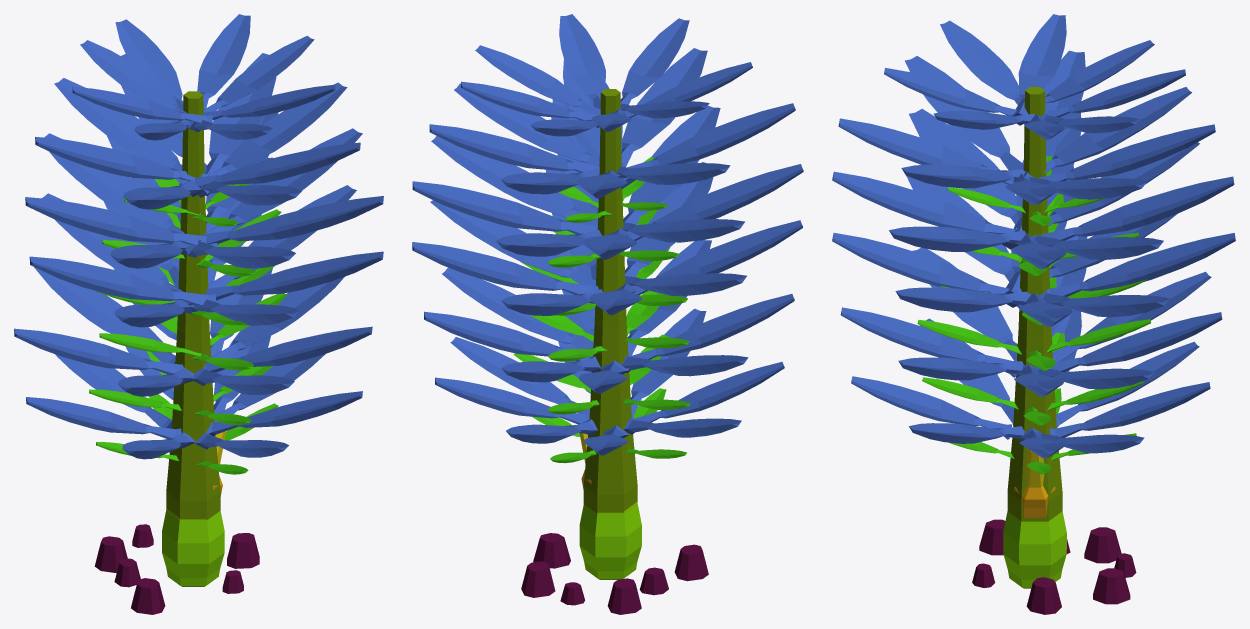
The model's file is indigo.glb.
3 renders of one model, left to right at view 1: azimuth 30°, elevation 25°; view 2: azimuth 150°, elevation 25°; view 3: azimuth 270°, elevation 25°, orthographic. The views are drawn at different scales.
Parts seen in each view (by area): view 1: stage_5, stage_4, stage_1, stage_3; view 2: stage_5, stage_4, stage_1, stage_3; view 3: stage_5, stage_4, stage_1, stage_3, stage_2.
Boxes of the visible parts, x1=… form: stage_5: x1=14, y1=14, x2=383, y2=586; stage_4: x1=89, y1=179, x2=287, y2=519; stage_1: x1=94, y1=524, x2=259, y2=614; stage_3: x1=162, y1=510, x2=224, y2=585; stage_5: x1=412, y1=14, x2=803, y2=579; stage_4: x1=510, y1=157, x2=690, y2=513; stage_1: x1=521, y1=533, x2=708, y2=614; stage_3: x1=579, y1=504, x2=641, y2=578; stage_5: x1=832, y1=14, x2=1235, y2=588; stage_4: x1=917, y1=156, x2=1150, y2=474; stage_1: x1=972, y1=519, x2=1136, y2=614; stage_3: x1=1003, y1=511, x2=1066, y2=587; stage_2: x1=1014, y1=449, x2=1055, y2=517.
Bounding box in the file's own units: 0.6914 × 1.01 × 0.7237.
